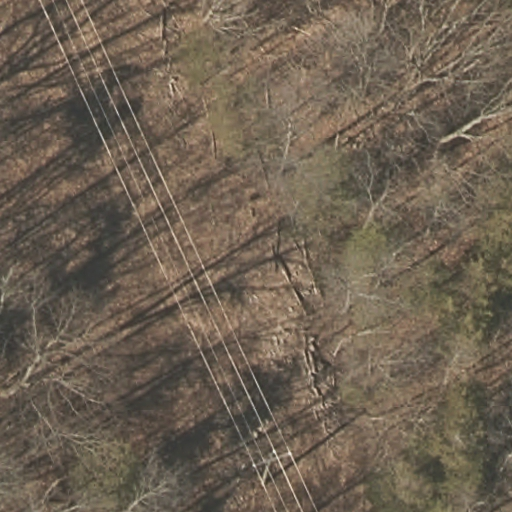DT: (251, 448, 295, 474)
